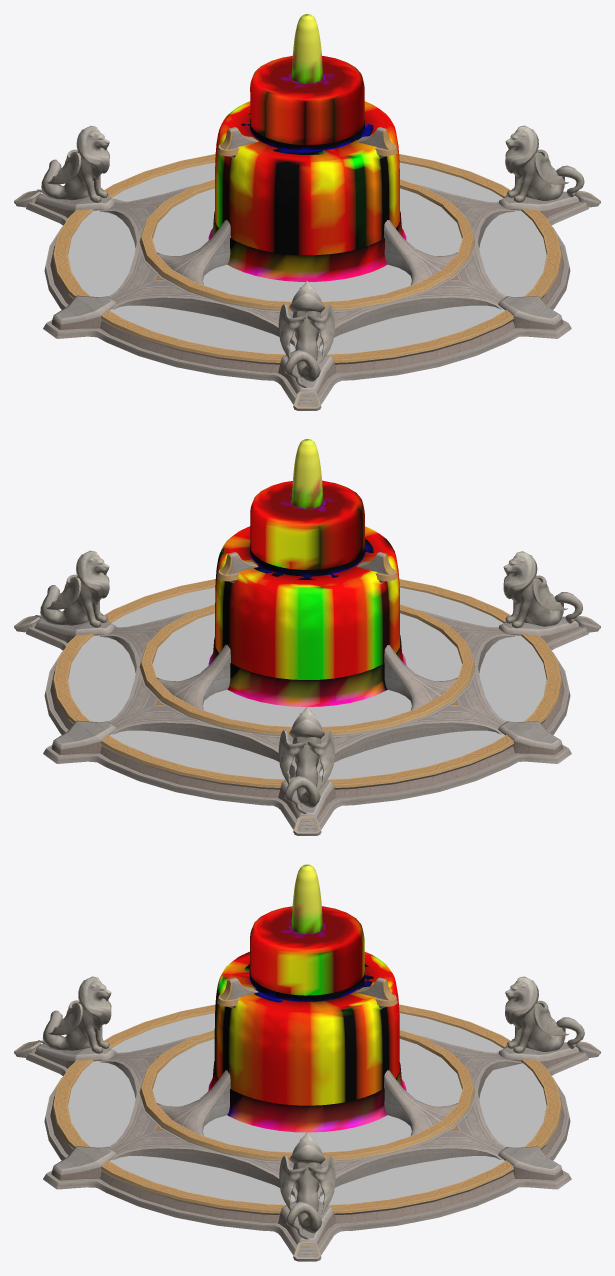
The model's file is Homeworld_Exterior_Fd_Decoration_Prop_Penquan_01_Lod0.fbx.
3 views of the same model, one above another, from view 1: azimuth 30°, elevation 25°; view 2: azimuth 150°, elevation 25°; view 3: azimuth 270°, elevation 25° (orthographic).
Visible parts, largest first — view 1: Area_Fd_Prop_SPD_Penquan_01_Lod0, Homeworld_Exterior_Fd_Decoration_Prop_PenquanS_01_Vo, Fountain_04, Area_Fd_Prop_SPD_Penquandiaoxiang_01_Lod0(Clone) (×3), Rippling_01, Fountain_01, Fountain_02; view 2: Area_Fd_Prop_SPD_Penquan_01_Lod0, Homeworld_Exterior_Fd_Decoration_Prop_PenquanS_01_Vo, Fountain_04, Area_Fd_Prop_SPD_Penquandiaoxiang_01_Lod0(Clone) (×3), Rippling_01, Fountain_01, Fountain_02; view 3: Area_Fd_Prop_SPD_Penquan_01_Lod0, Homeworld_Exterior_Fd_Decoration_Prop_PenquanS_01_Vo, Fountain_04, Area_Fd_Prop_SPD_Penquandiaoxiang_01_Lod0(Clone) (×3), Fountain_01, Rippling_01, Fountain_02.
Boxes of the visible parts, x1,y1,x2,y2 form: Area_Fd_Prop_SPD_Penquan_01_Lod0: (14, 127, 600, 410); Homeworld_Exterior_Fd_Decoration_Prop_PenquanS_01_Vo: (68, 162, 546, 354); Fountain_04: (215, 56, 399, 255); Area_Fd_Prop_SPD_Penquandiaoxiang_01_Lod0(Clone) (×3): (37, 125, 584, 387); Rippling_01: (208, 211, 406, 281); Fountain_01: (215, 87, 292, 250); Fountain_02: (291, 14, 323, 83); Area_Fd_Prop_SPD_Penquan_01_Lod0: (14, 552, 600, 835); Homeworld_Exterior_Fd_Decoration_Prop_PenquanS_01_Vo: (68, 542, 546, 779); Fountain_04: (215, 480, 399, 679); Area_Fd_Prop_SPD_Penquandiaoxiang_01_Lod0(Clone) (×3): (35, 550, 582, 813); Rippling_01: (208, 635, 406, 706); Fountain_01: (316, 514, 399, 668); Fountain_02: (291, 439, 323, 508); Area_Fd_Prop_SPD_Penquan_01_Lod0: (14, 977, 600, 1261); Homeworld_Exterior_Fd_Decoration_Prop_PenquanS_01_Vo: (68, 1010, 546, 1204); Fountain_04: (214, 906, 399, 1105); Area_Fd_Prop_SPD_Penquandiaoxiang_01_Lod0(Clone) (×3): (38, 976, 584, 1239); Fountain_01: (249, 951, 360, 1105); Rippling_01: (208, 1061, 406, 1132); Fountain_02: (291, 864, 322, 933).
Size of what is drawn, in the model's own units: 16.72 by 7.59 by 15.56.
